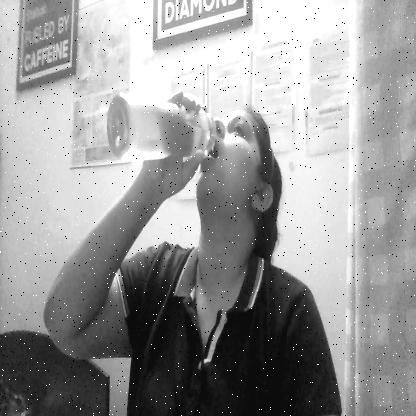Distracted: (196, 113, 262, 238)
